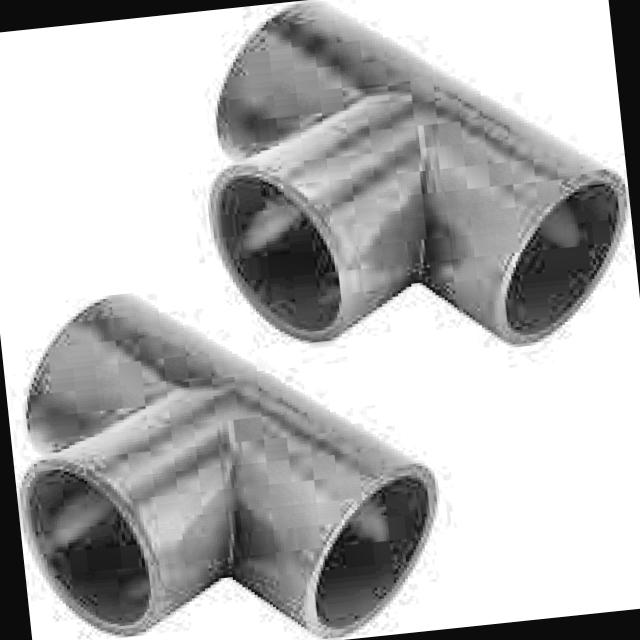EQUALTEE: (204, 0, 631, 350), (16, 293, 440, 640)
